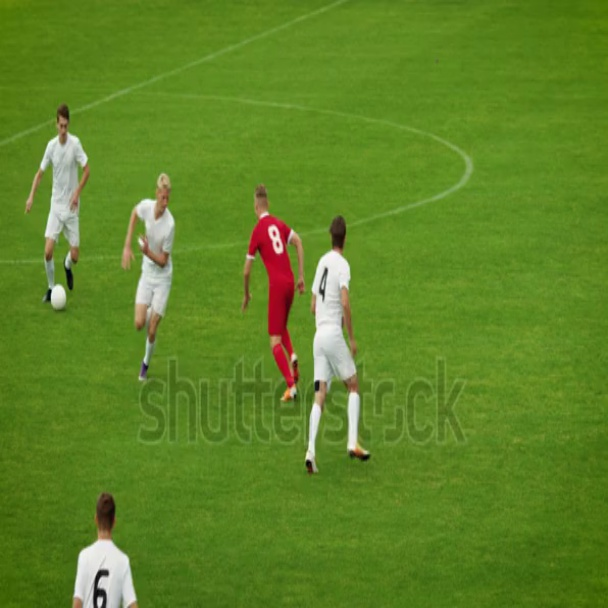ball: (51, 283, 69, 313)
